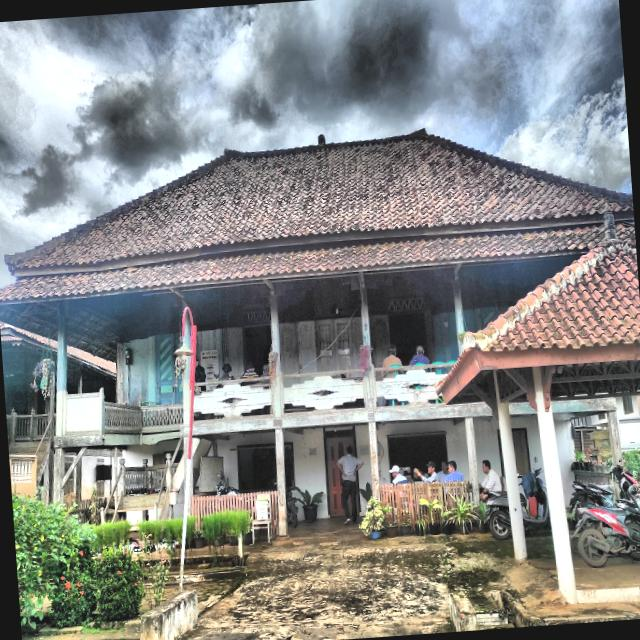column: (360, 285, 382, 531), (271, 296, 286, 536), (53, 316, 67, 506), (181, 304, 192, 519), (465, 416, 479, 507), (453, 276, 466, 356)
ornamen: (283, 375, 364, 409), (193, 384, 271, 417), (104, 402, 184, 433), (376, 369, 447, 403)
roof: (0, 128, 636, 363), (437, 206, 640, 403)
wall: (117, 307, 459, 423)
